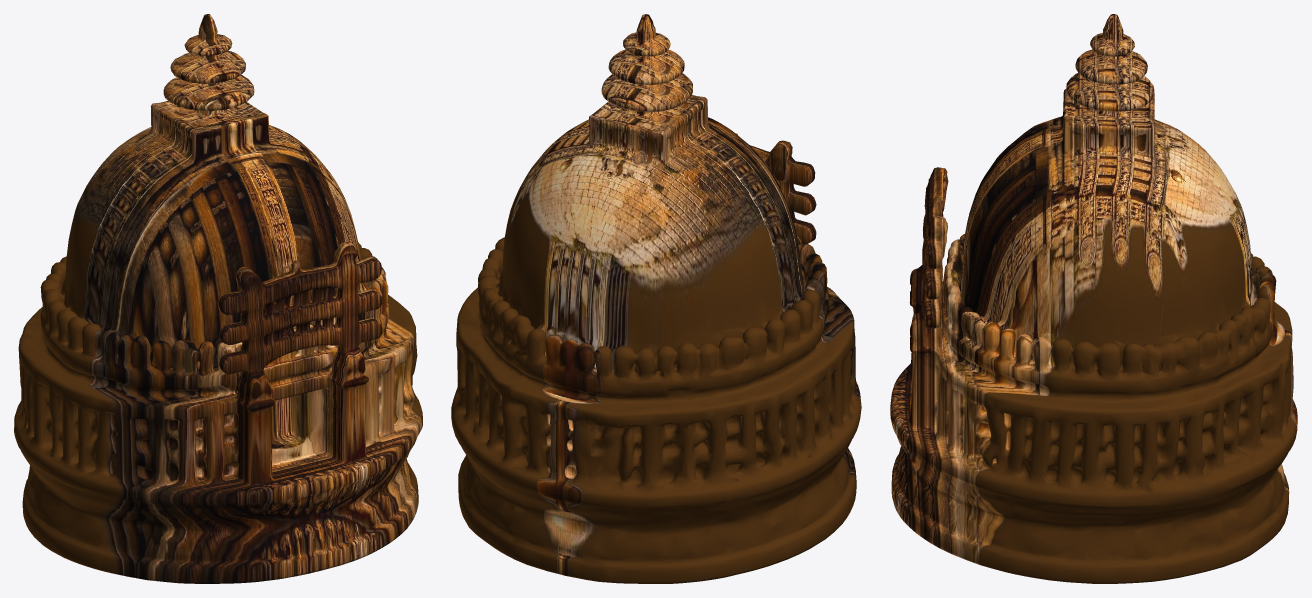
Rendered from great_stupa.glb.
The picture shows the model from 3 angles, left to right: view 1: azimuth 30°, elevation 25°; view 2: azimuth 150°, elevation 25°; view 3: azimuth 270°, elevation 25°; orthographic projection.
Visible parts, largest first — view 1: geometry_0; view 2: geometry_0; view 3: geometry_0.
Boxes of the visible parts, x1,y1,x2,y2 form: geometry_0: (14, 14, 422, 583); geometry_0: (451, 14, 861, 583); geometry_0: (890, 14, 1297, 583).
Size of the model in its own units: 1.49 by 1.99 by 1.49.
1 material, 1 textured.
